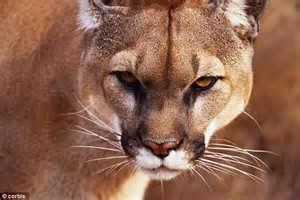Mountain Lion: (73, 2, 269, 183)
